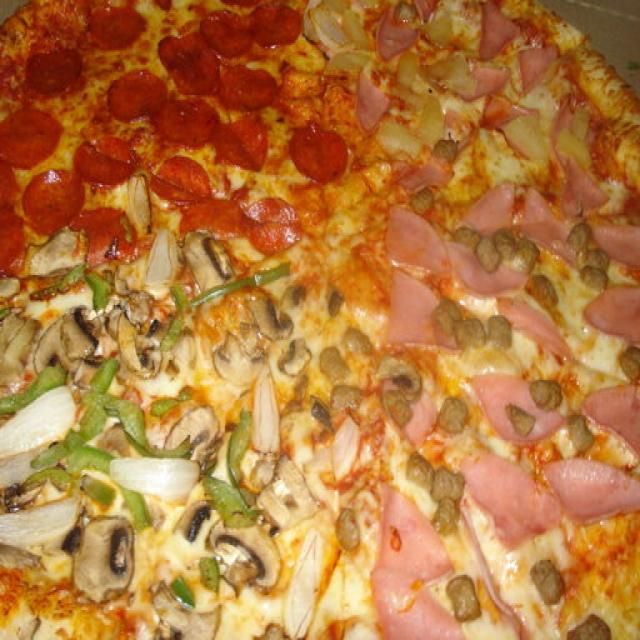Beef: (372, 569, 479, 640), (432, 298, 488, 344), (526, 561, 567, 605), (522, 265, 566, 305), (445, 572, 475, 622), (433, 492, 469, 530), (424, 464, 459, 501), (484, 307, 518, 344), (399, 449, 433, 485), (528, 377, 562, 413), (316, 346, 352, 380), (560, 612, 603, 640), (504, 400, 535, 437), (614, 346, 640, 390), (580, 248, 608, 284), (442, 394, 466, 436), (510, 239, 544, 265), (476, 237, 501, 272), (383, 390, 410, 422), (346, 329, 375, 358), (566, 414, 588, 452), (561, 224, 592, 250), (434, 135, 459, 167), (491, 220, 513, 256), (326, 387, 355, 413), (414, 187, 437, 219), (391, 373, 423, 395), (312, 403, 334, 427), (453, 228, 479, 248)
Green Pepper: (96, 386, 190, 459), (66, 451, 150, 528), (182, 258, 285, 310), (214, 403, 254, 527), (70, 356, 112, 442), (149, 587, 215, 640), (0, 366, 57, 414), (22, 470, 76, 505), (148, 383, 190, 421), (158, 293, 182, 349), (191, 557, 224, 596), (87, 267, 114, 304), (165, 570, 192, 599)
Ham: (377, 486, 461, 640), (472, 447, 557, 547), (470, 372, 556, 445), (496, 287, 568, 370), (387, 276, 459, 358), (390, 204, 454, 280), (381, 368, 440, 450), (441, 239, 526, 295), (549, 462, 640, 513), (522, 195, 571, 267), (587, 381, 640, 435), (581, 290, 640, 337), (568, 170, 608, 227), (464, 188, 515, 228), (595, 227, 640, 251)
Mushrooms: (0, 496, 87, 560), (0, 390, 66, 468), (98, 303, 154, 375), (219, 514, 280, 579), (210, 330, 270, 392), (76, 523, 130, 585), (29, 320, 82, 374), (182, 233, 232, 290), (261, 462, 308, 522), (253, 370, 285, 452), (245, 292, 298, 340), (142, 229, 176, 291), (61, 310, 88, 363), (174, 508, 213, 544), (280, 341, 310, 377)
Pepperoni: (213, 104, 275, 181), (243, 181, 302, 259), (148, 32, 223, 88), (293, 118, 356, 182), (80, 130, 134, 192), (148, 158, 222, 202), (101, 67, 159, 121), (0, 111, 60, 161), (30, 168, 74, 230), (160, 90, 209, 145), (178, 198, 246, 237), (28, 49, 88, 93), (0, 153, 21, 265), (220, 59, 271, 103), (248, 2, 296, 45), (85, 8, 143, 43), (199, 12, 249, 46)
